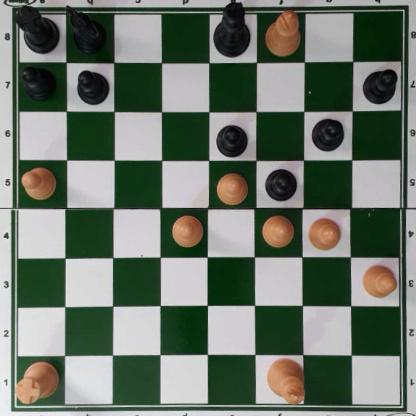black-king: (211, 1, 249, 58)
black-knight: (65, 6, 106, 52)
black-pawn: (362, 67, 398, 105), (20, 66, 56, 101), (76, 67, 108, 104), (214, 122, 248, 156), (311, 115, 344, 150), (265, 166, 297, 201)
black-rook: (13, 4, 59, 53)
white-bishop: (264, 8, 300, 56)
white-king: (265, 356, 306, 405)
white-pawn: (213, 171, 249, 205), (20, 166, 56, 200), (360, 264, 397, 297), (306, 215, 340, 250), (260, 213, 293, 248), (170, 215, 203, 247)
white-rook: (13, 359, 58, 404)
